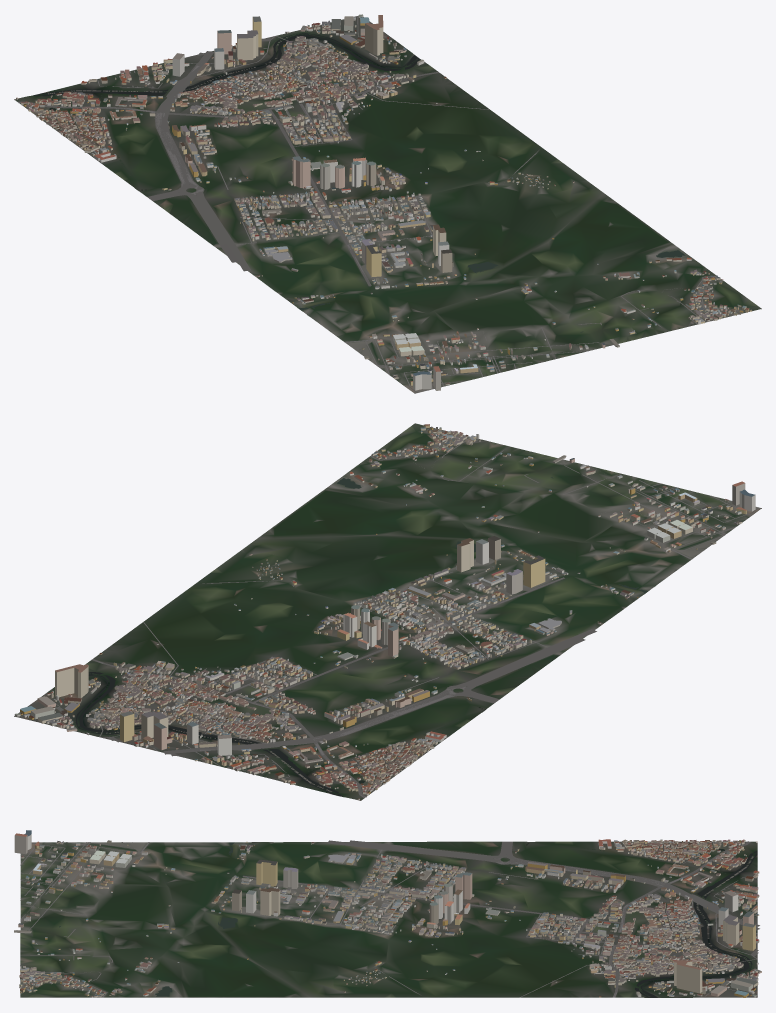
The picture shows the model from 3 angles, top to bottom: view 1: azimuth 30°, elevation 25°; view 2: azimuth 150°, elevation 25°; view 3: azimuth 270°, elevation 25°; orthographic projection. The views are drawn at different scales.
Visible parts, largest first — view 1: ground, buildings, roads, water; view 2: ground, buildings, roads, water; view 3: ground, buildings, roads, water.
Part boxes in pixels (x1,y1,x2,y2): ground: (14, 15, 761, 393); buildings: (16, 14, 751, 390); roads: (18, 16, 738, 392); water: (34, 33, 685, 332); ground: (14, 423, 761, 800); buildings: (14, 424, 755, 800); roads: (17, 431, 758, 797); water: (75, 477, 647, 796); ground: (20, 841, 757, 997); buildings: (14, 830, 761, 997); roads: (20, 840, 759, 997); water: (59, 842, 757, 997).
Size of the model in its own units: 1416 by 107 by 2845.
